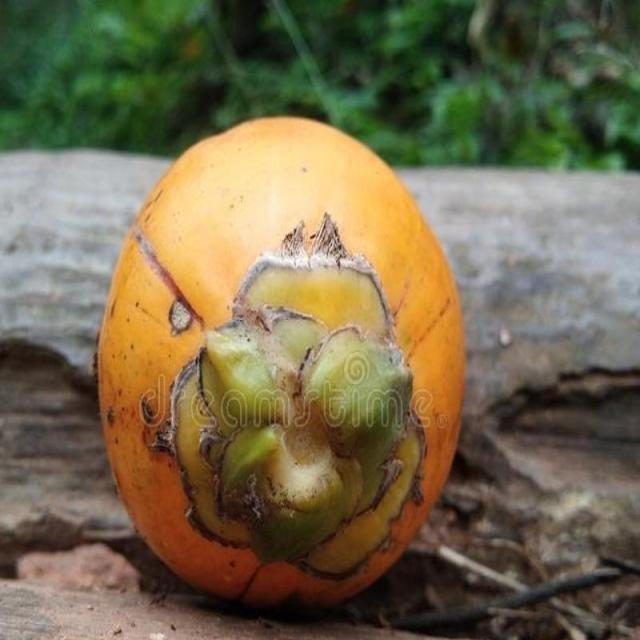good: (95, 117, 466, 615)
